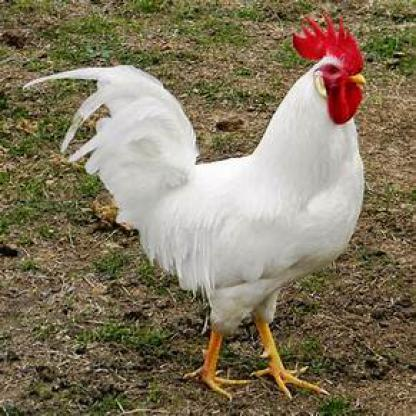chicken: (24, 15, 366, 400)
